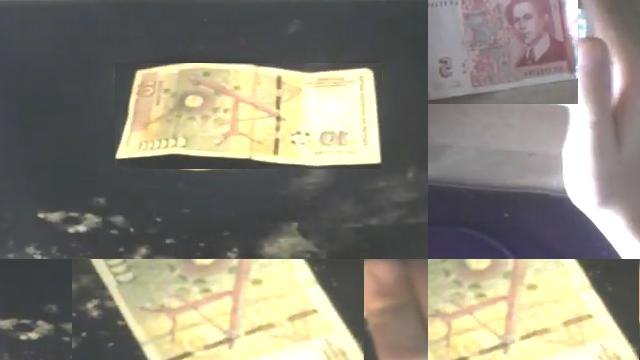10leva: (115, 63, 382, 169), (88, 259, 364, 360), (428, 259, 639, 360)
5leva: (428, 0, 578, 103)
